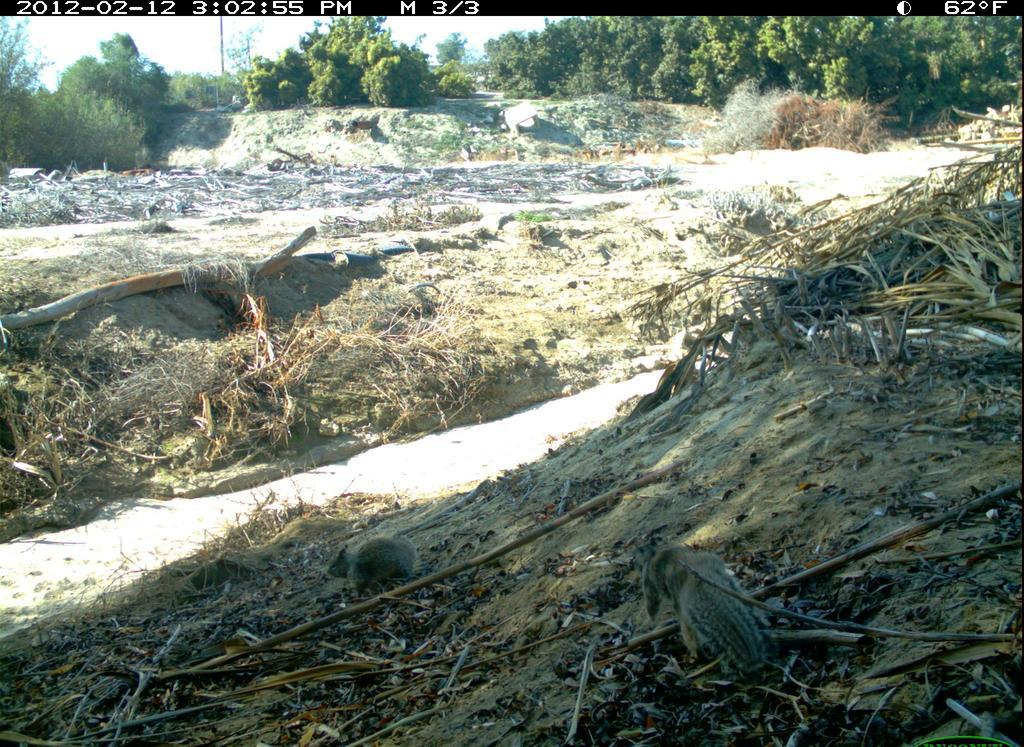squirrel: (621, 532, 776, 683), (321, 521, 431, 602)
